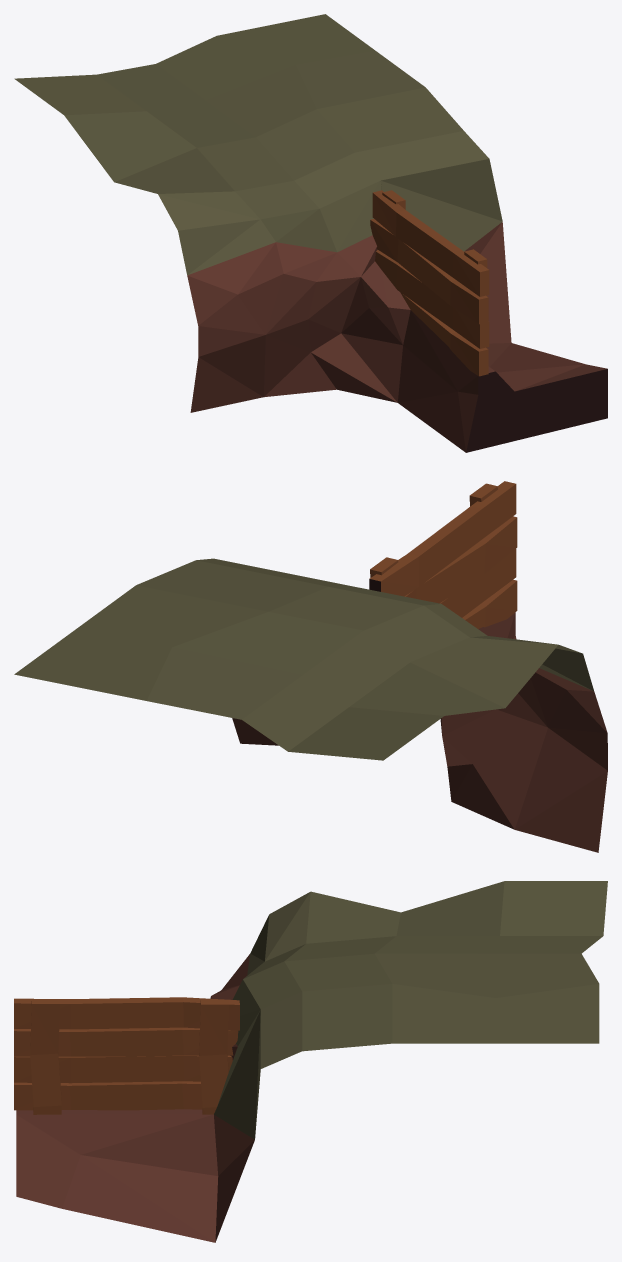
Rendered from Block_UP_RIGHT.fbx.
3 renders of one model, top to bottom at view 1: azimuth 30°, elevation 25°; view 2: azimuth 150°, elevation 25°; view 3: azimuth 270°, elevation 25°, orthographic. The views are drawn at different scales.
Parts seen in each view (by area): view 1: Block_UP_RIGHT; view 2: Block_UP_RIGHT; view 3: Block_UP_RIGHT.
Part boxes in pixels (x1=…): Block_UP_RIGHT: x1=14, y1=14, x2=607, y2=452; Block_UP_RIGHT: x1=14, y1=481, x2=607, y2=852; Block_UP_RIGHT: x1=14, y1=881, x2=607, y2=1242.
Size of the model in its own units: 13.43 by 8.28 by 21.05.
